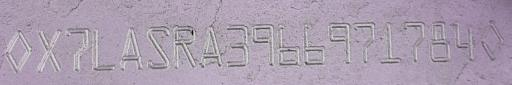letter: (116, 24, 146, 71), (300, 21, 328, 70), (144, 24, 172, 73), (326, 19, 354, 66), (36, 27, 64, 74), (172, 22, 198, 71), (64, 25, 90, 74), (224, 22, 250, 69), (249, 22, 275, 69), (276, 23, 302, 70), (90, 26, 116, 73), (198, 23, 224, 68), (428, 18, 452, 65), (352, 18, 376, 63), (402, 18, 426, 63), (452, 21, 476, 64), (378, 20, 400, 63)
